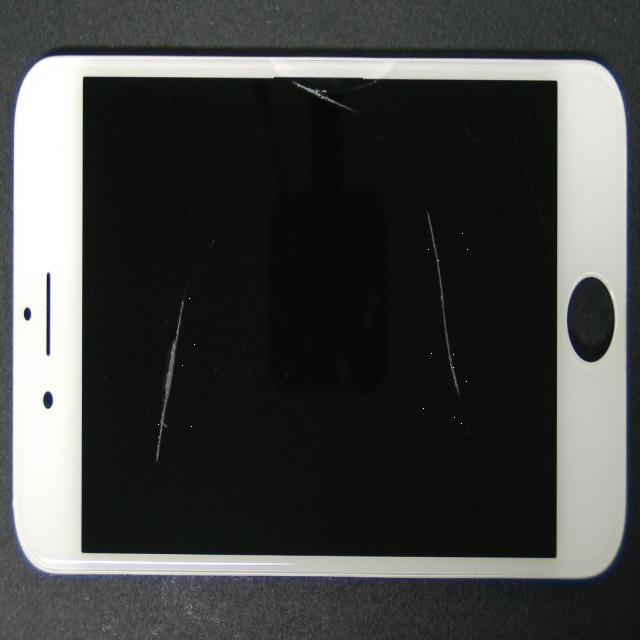scratch: (184, 33, 640, 460), (70, 235, 209, 640), (189, 40, 463, 117)
